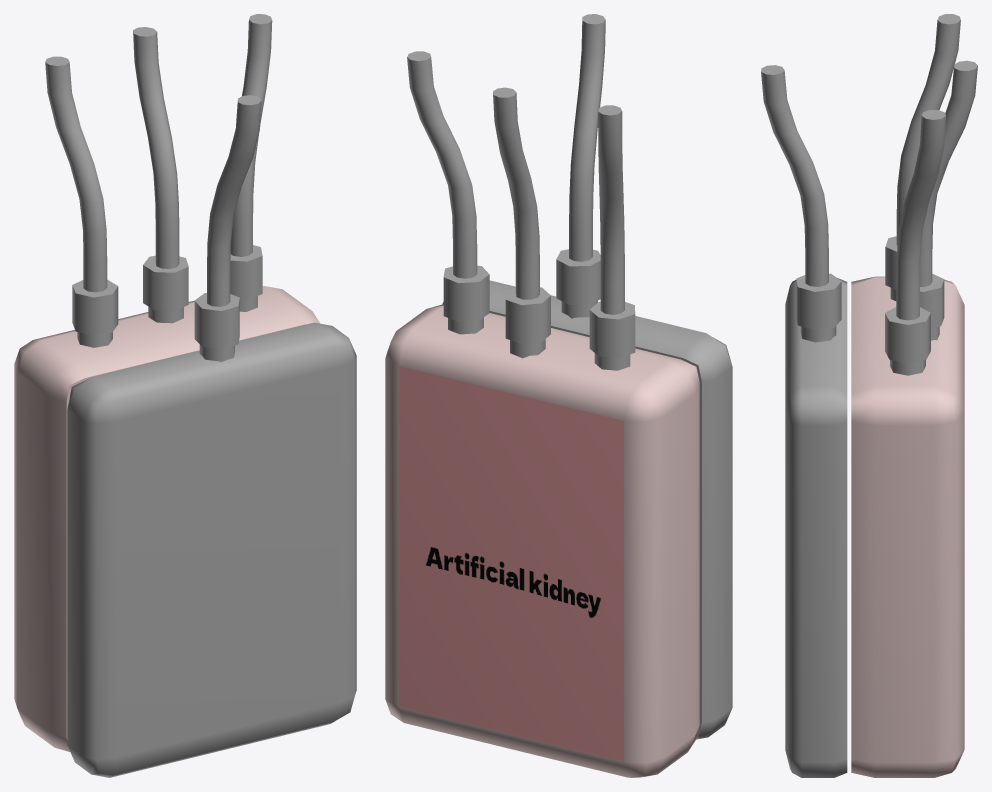
Rendered from artificyal kidny.fbx.
3 views of the same model, side by side, from view 1: azimuth 30°, elevation 25°; view 2: azimuth 150°, elevation 25°; view 3: azimuth 270°, elevation 25° (orthographic).
Visible parts, largest first — view 1: pCube2, pCube1, pCylinder8, pCylinder6, pCylinder4, pCylinder2, pCylinder5, pCylinder3, pCylinder7, pCylinder1; view 2: pCube1, pCube2, pCylinder4, pCylinder2, pCylinder6, pCylinder8, pCylinder7, pCylinder5, pCylinder1, pCylinder3; view 3: pCube1, pCube2, pCylinder4, pCylinder2, pCylinder6, pCylinder8, pCylinder3, pCylinder1, pCylinder7, pCylinder5.
Part boxes in pixels (x1,y1,x2,y2): pCube2: (67, 322, 356, 777); pCube1: (14, 286, 320, 751); pCylinder8: (133, 27, 179, 268); pCylinder6: (45, 56, 107, 292); pCylinder4: (207, 95, 261, 306); pCylinder2: (230, 14, 272, 256); pCylinder5: (72, 279, 118, 347); pCylinder3: (194, 293, 239, 361); pCylinder7: (143, 255, 188, 323); pCylinder1: (230, 245, 262, 311); pCube1: (385, 304, 699, 777); pCube2: (442, 280, 732, 739); pCylinder4: (569, 14, 605, 261); pCylinder2: (407, 51, 477, 278); pCylinder6: (598, 105, 624, 314); pCylinder8: (493, 87, 539, 299); pCylinder7: (505, 287, 550, 358); pCylinder5: (589, 301, 635, 370); pCylinder1: (443, 265, 489, 334); pCylinder3: (556, 249, 600, 318); pCube1: (851, 276, 964, 777); pCube2: (785, 278, 847, 777); pCylinder4: (761, 65, 828, 286); pCylinder2: (896, 110, 945, 320); pCylinder6: (896, 14, 960, 245); pCylinder8: (920, 60, 977, 286); pCylinder3: (796, 273, 841, 342); pCylinder1: (885, 307, 930, 375); pCylinder7: (920, 274, 944, 340); pCylinder5: (885, 236, 897, 300).
Size of the model in its own units: 282 by 649 by 193.
Materials: 3 (1 with a texture image).
